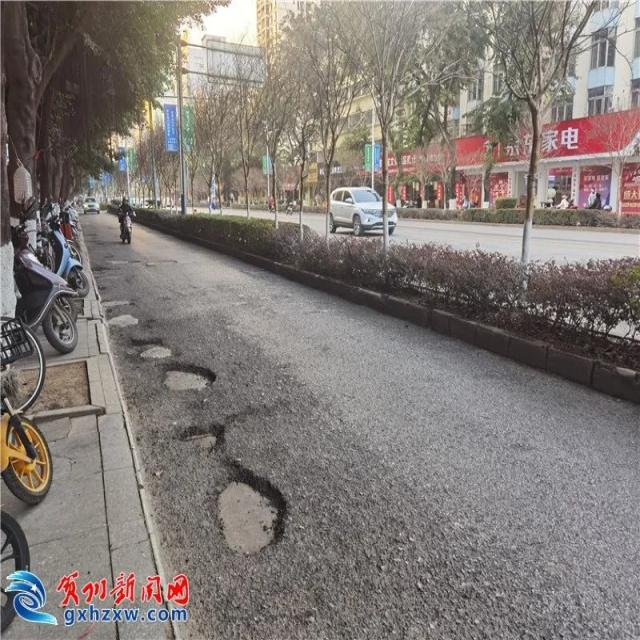Pothole: (202, 472, 300, 568), (151, 360, 224, 390), (178, 420, 234, 456), (127, 328, 170, 358), (106, 298, 142, 329)
